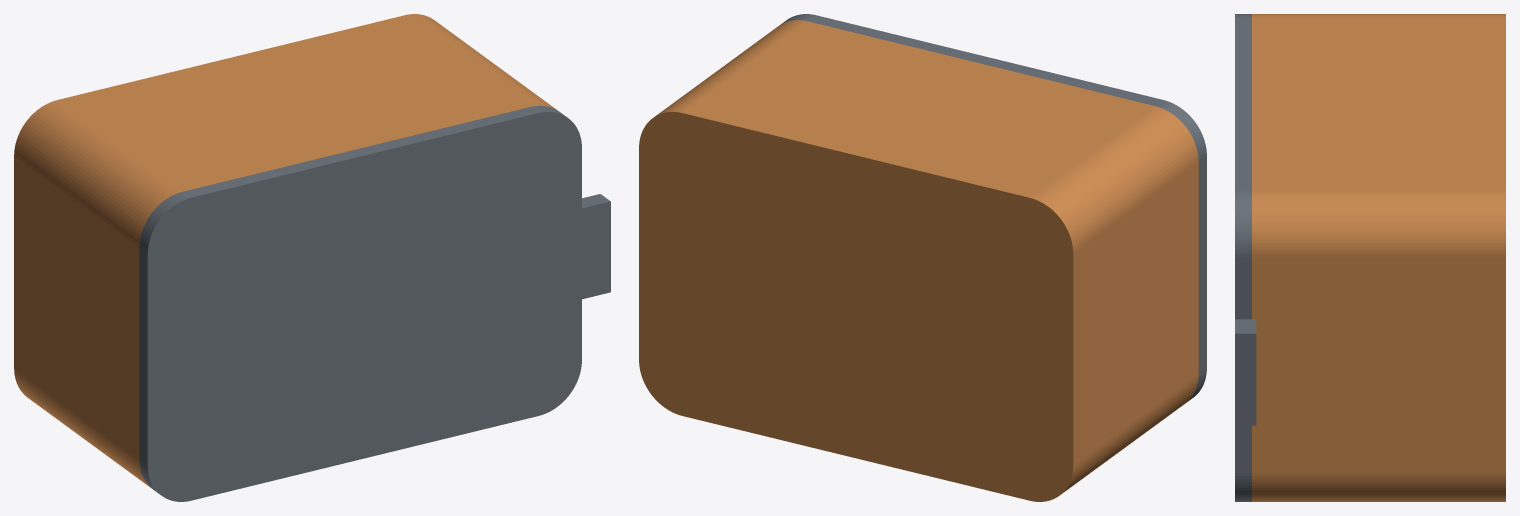
The picture shows the model from 3 angles, left to right: view 1: azimuth 30°, elevation 25°; view 2: azimuth 150°, elevation 25°; view 3: azimuth 270°, elevation 25°; orthographic projection.
Visible parts, largest first — view 1: couvercle, boite; view 2: boite, couvercle; view 3: boite, couvercle.
Part boxes in pixels (bbox=[...]): couvercle: bbox=[139, 105, 610, 501]; boite: bbox=[14, 14, 557, 487]; boite: bbox=[639, 20, 1198, 501]; couvercle: bbox=[781, 14, 1206, 401]; boite: bbox=[1252, 14, 1505, 501]; couvercle: bbox=[1235, 14, 1256, 501].
Bounding box in the file's own units: 63.99 × 40 × 32.
